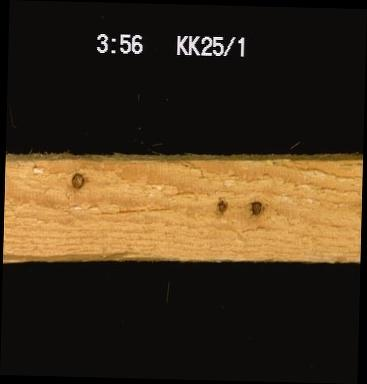dry_knot: (69, 170, 84, 189), (215, 195, 228, 212), (249, 199, 262, 215)
split: (84, 200, 176, 216)
wave: (2, 242, 132, 262)
